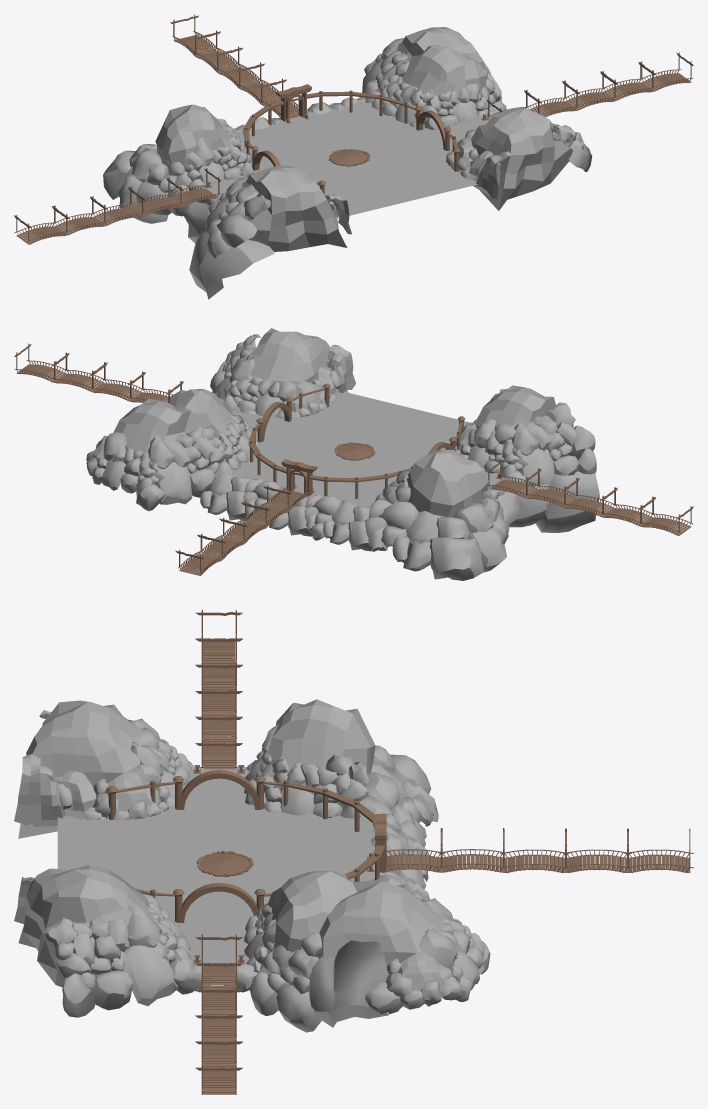
The model's file is Hub_level_complete.fbx.
3 views of the same model, one above another, from view 1: azimuth 30°, elevation 25°; view 2: azimuth 150°, elevation 25°; view 3: azimuth 270°, elevation 25° (orthographic). The views are drawn at different scales.
Parts seen in each view (by area): view 1: Rocks, Floor, Bridge_West, Circle_arch, Bridge_East, Bridge_North, Center_tree; view 2: Rocks, Floor, Bridge_West, Bridge_North, Circle_arch, Bridge_East, Center_tree; view 3: Rocks, Floor, Bridge_North, Circle_arch, Bridge_West, Bridge_East, Center_tree.
Boxes of the visible parts, box(x1,y1,x2,y2) form: Rocks: box(103, 27, 592, 299); Floor: box(203, 102, 489, 218); Bridge_West: box(14, 168, 221, 244); Circle_arch: box(242, 84, 460, 194); Bridge_East: box(486, 52, 693, 120); Bridge_North: box(170, 14, 303, 118); Center_tree: box(329, 148, 370, 166); Rocks: box(86, 328, 599, 580); Floor: box(231, 391, 505, 507); Bridge_West: box(486, 459, 693, 535); Bridge_North: box(175, 471, 308, 575); Circle_arch: box(248, 383, 465, 498); Bridge_East: box(14, 343, 221, 402); Center_tree: box(334, 442, 375, 460); Rocks: box(14, 699, 490, 1032); Floor: box(57, 768, 382, 965); Bridge_North: box(385, 828, 693, 873); Circle_arch: box(106, 770, 386, 922); Bridge_West: box(195, 609, 242, 769); Bridge_East: box(195, 934, 242, 1094); Center_tree: box(196, 850, 253, 877).
Bounding box in the file's own units: 817 × 139 × 511.
